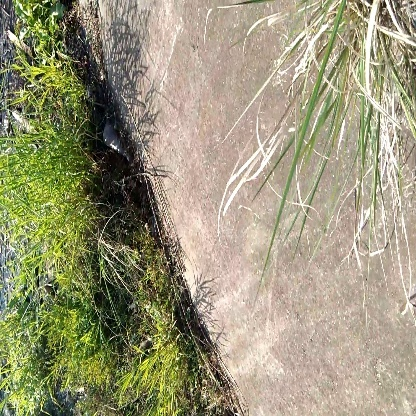grass: (9, 152, 83, 257)
